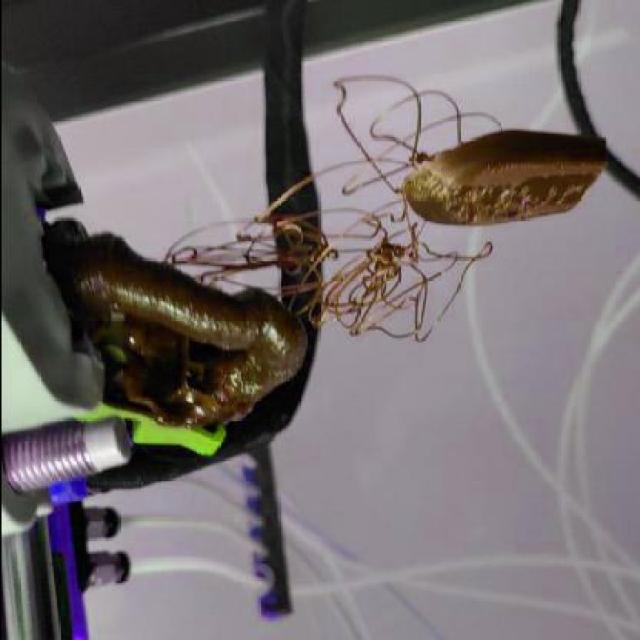Curling_Spagetti: (154, 160, 501, 354), (320, 72, 498, 159)
